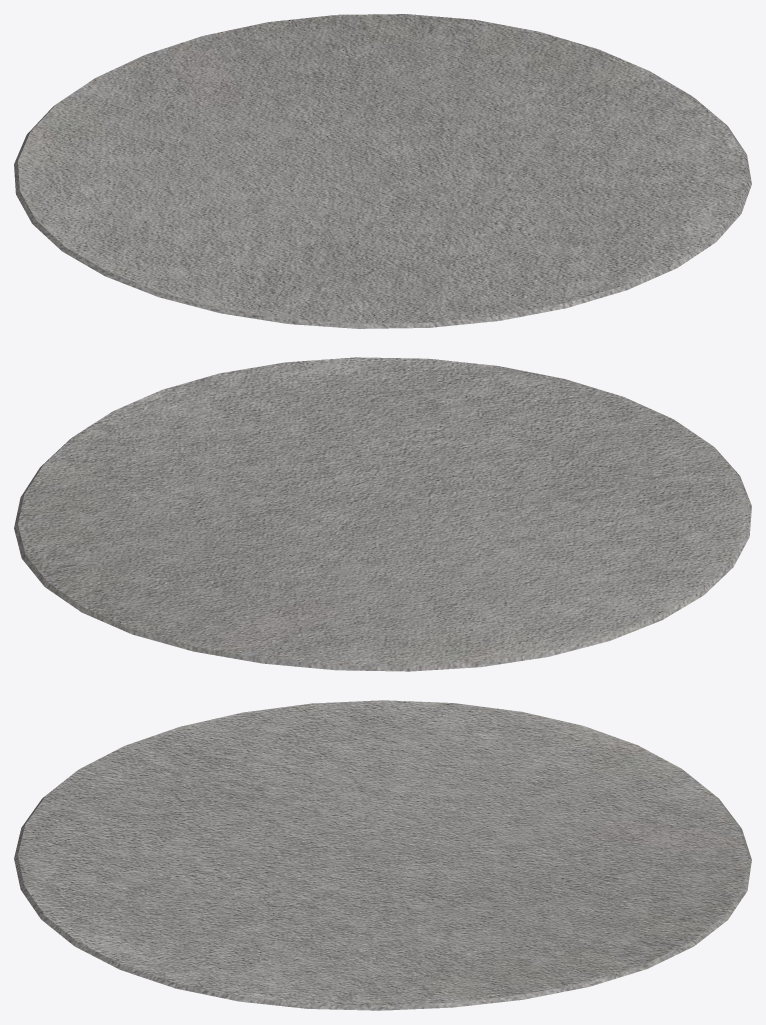
The model's file is Rug Round.glb.
3 renders of one model, top to bottom at view 1: azimuth 30°, elevation 25°; view 2: azimuth 150°, elevation 25°; view 3: azimuth 270°, elevation 25°, orthographic.
Visible parts, largest first — view 1: rug; view 2: rug; view 3: rug.
Part boxes in pixels (x1,y1,x2,y2): rug: (14,14,751,328); rug: (14,357,751,671); rug: (14,700,751,1010).
Size of the model in its own units: 2.02 by 0.0105 by 2.04.
Materials: 1 (1 with a texture image).
